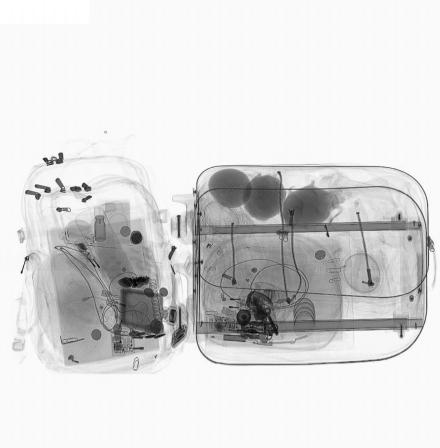Lighter: (71, 238, 105, 275)
